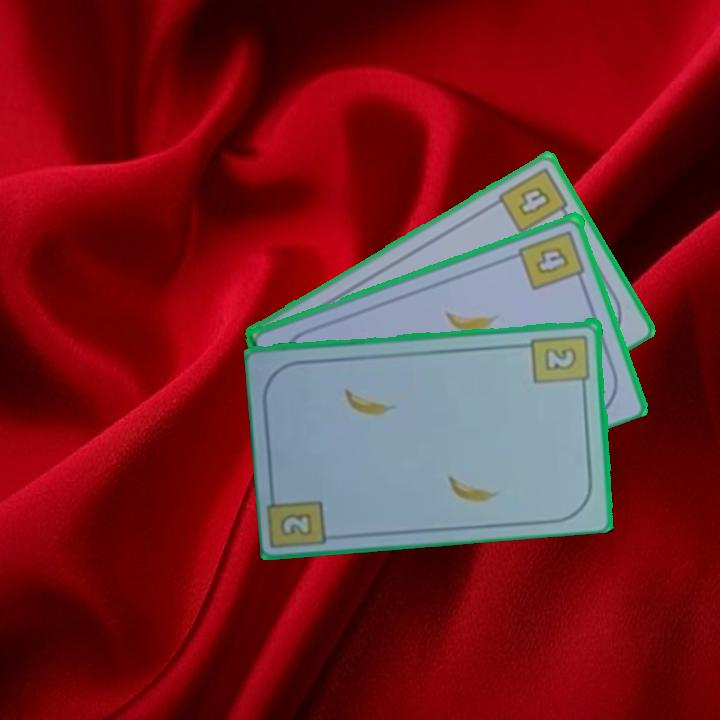2b: (529, 331, 593, 392), (280, 512, 312, 536)
4b: (495, 163, 574, 236), (516, 226, 588, 293)
